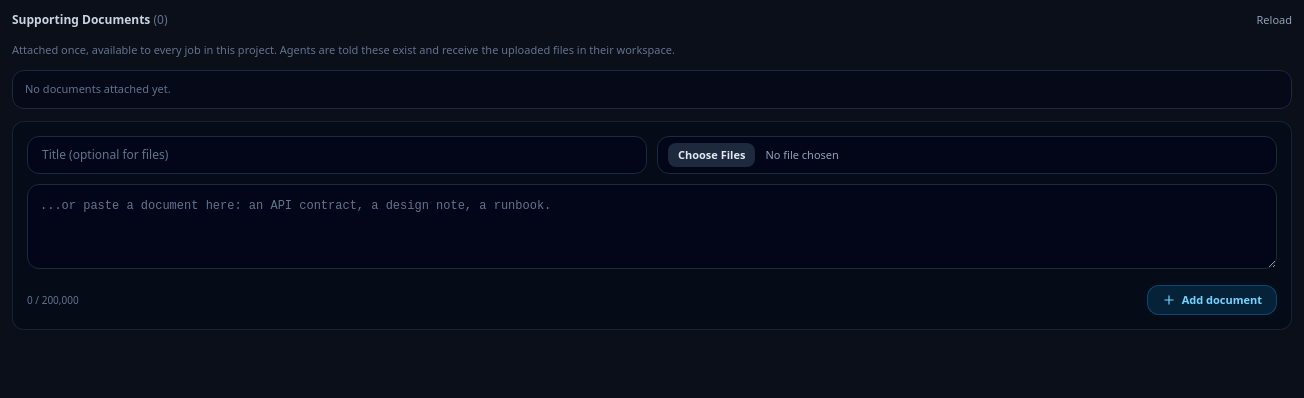
ProjectDocumentsSection › surfaces the server's limit message
The width and height of the screenshot is (1304, 398).
Check: the text "No documents attached yet." is shown, box 12,70 -> 1292,109
Replace the text in the text box with placeholder "paste a document here" with "x": (652, 227) 27,184 -> 1277,269
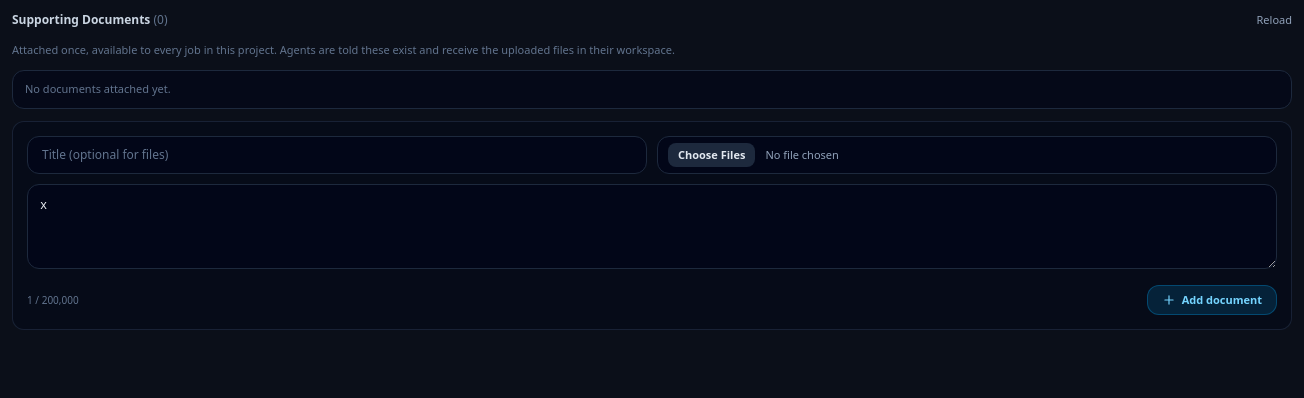
Click the button "Add document": (1212, 300) 1147,285 -> 1277,315
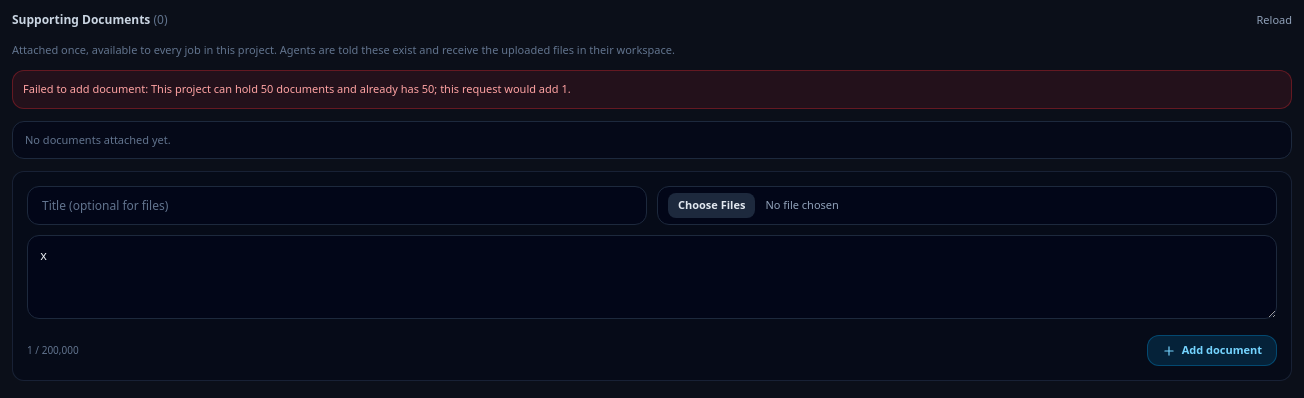
Check: the text "can hold 50 documents" is shown, box 23,81 -> 571,96
